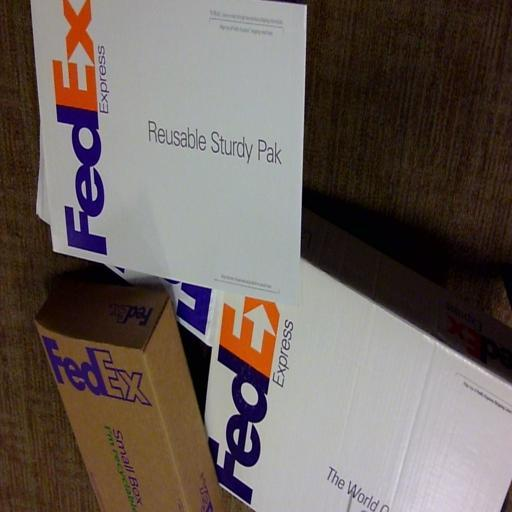Amazon: (30, 0, 332, 283), (203, 257, 502, 509), (41, 280, 193, 510)
